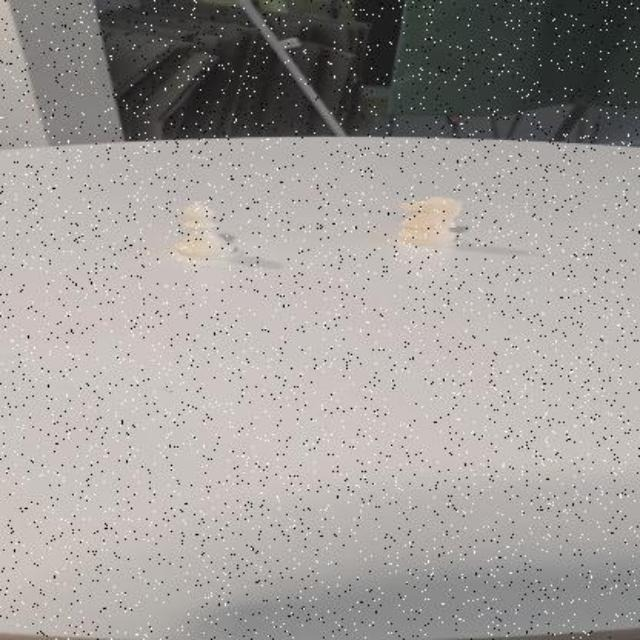white-bishop: (170, 196, 240, 260)
white-knight: (394, 192, 470, 248)
